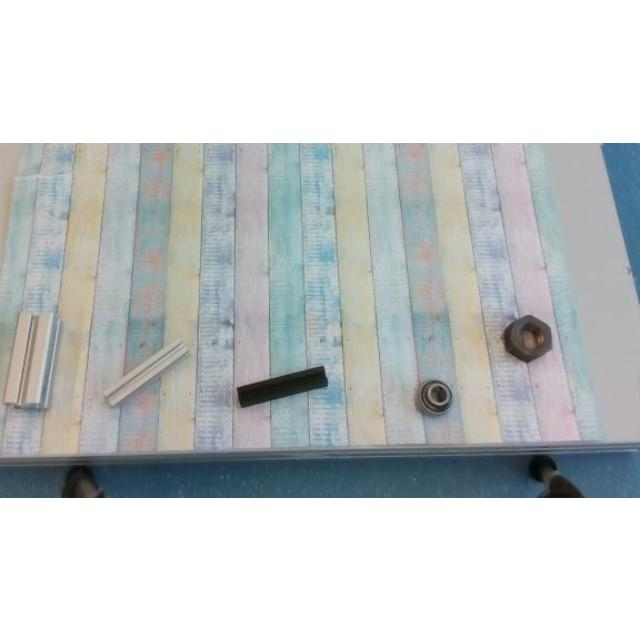Bearing2: (416, 378, 452, 414)
F20_20_B: (237, 364, 327, 406)
F20_20_G: (105, 338, 189, 406)
M30: (503, 314, 552, 362)
S40_40_G: (5, 309, 57, 406)
